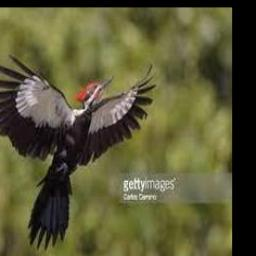Woodpecker: (0, 54, 156, 250)
